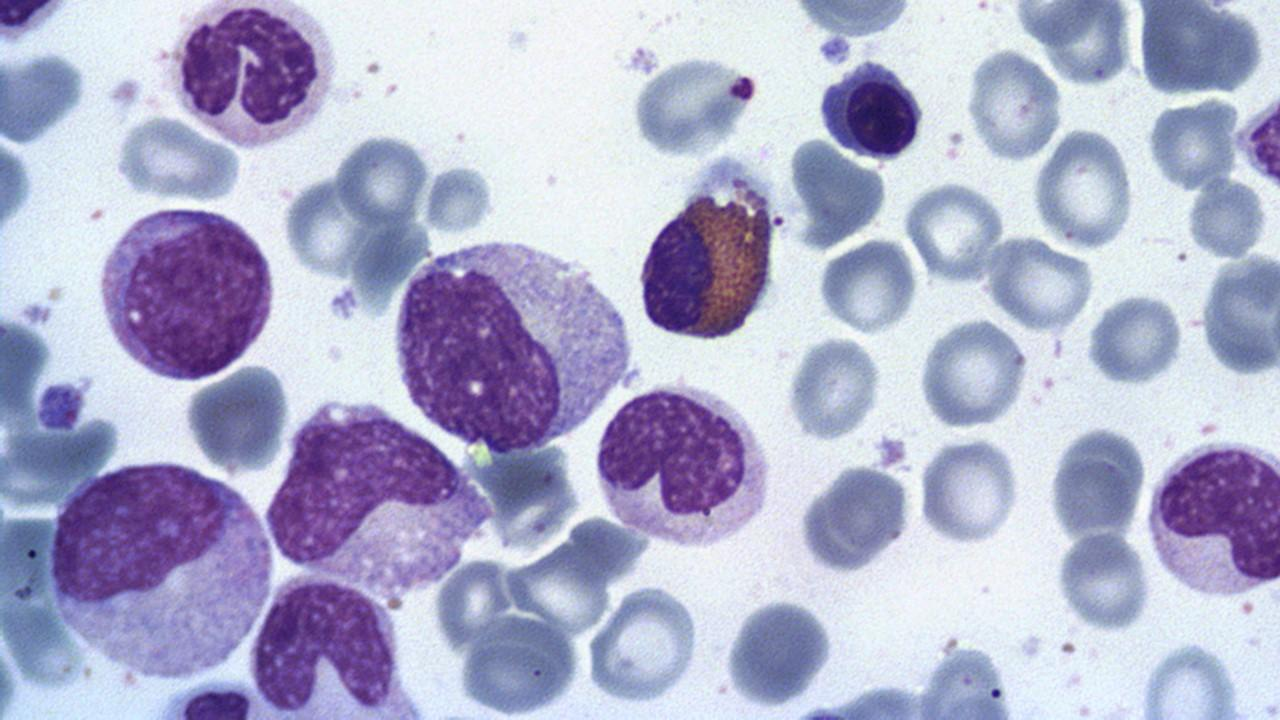Platelets: (871, 430, 911, 472), (105, 74, 145, 111), (16, 296, 57, 328), (815, 34, 852, 67), (629, 42, 662, 78), (504, 25, 534, 54)
RBC: (584, 581, 703, 706), (628, 52, 764, 160), (794, 457, 916, 577), (719, 592, 839, 710), (1031, 125, 1139, 251), (179, 359, 294, 476), (916, 315, 1031, 430), (782, 133, 894, 251), (914, 435, 1022, 548), (114, 111, 243, 205), (962, 48, 1065, 165), (454, 622, 578, 718), (784, 331, 888, 444), (1199, 244, 1280, 380), (1132, 2, 1246, 98), (902, 177, 1004, 284), (1052, 527, 1154, 633), (1082, 288, 1186, 391), (984, 235, 1096, 330), (815, 235, 918, 335), (330, 132, 430, 229), (0, 47, 92, 146), (1133, 639, 1249, 715), (1145, 97, 1233, 193), (1039, 1, 1131, 89), (1183, 176, 1273, 262), (423, 161, 500, 234), (1008, 0, 1114, 51), (780, 1, 924, 36), (1, 125, 35, 268)
WBC: (31, 450, 278, 700), (388, 228, 636, 460), (260, 390, 492, 608), (89, 199, 282, 385), (589, 374, 778, 554), (628, 152, 784, 346), (161, 0, 345, 154), (242, 569, 430, 716), (1140, 432, 1280, 604), (826, 59, 926, 165), (1231, 86, 1279, 193)
